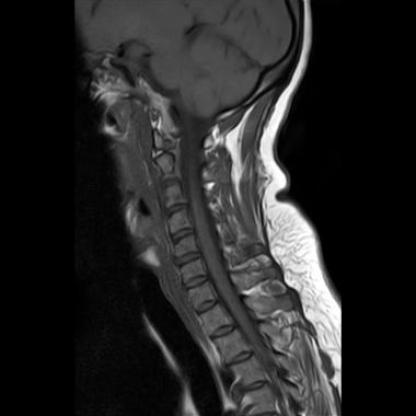Disc Bulgerotation: (173, 251, 203, 267), (170, 227, 197, 243), (181, 275, 209, 289), (163, 201, 190, 215), (158, 177, 181, 190)
Disc Herniationrotation: (193, 300, 220, 314)
